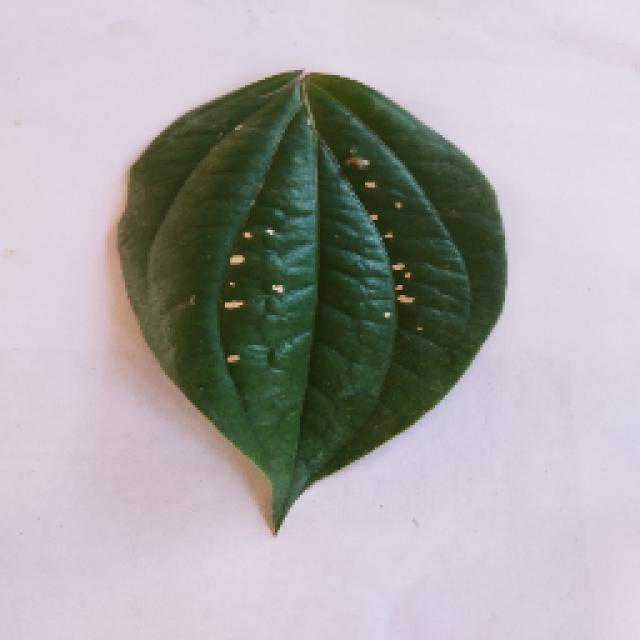pollu-disease: (100, 60, 522, 530)
